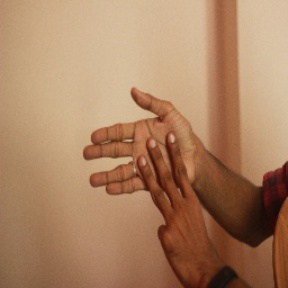M: (80, 83, 201, 231)
